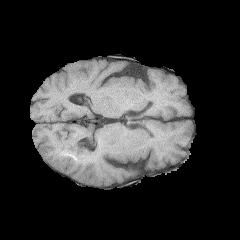glioma: (58, 142, 91, 166)
